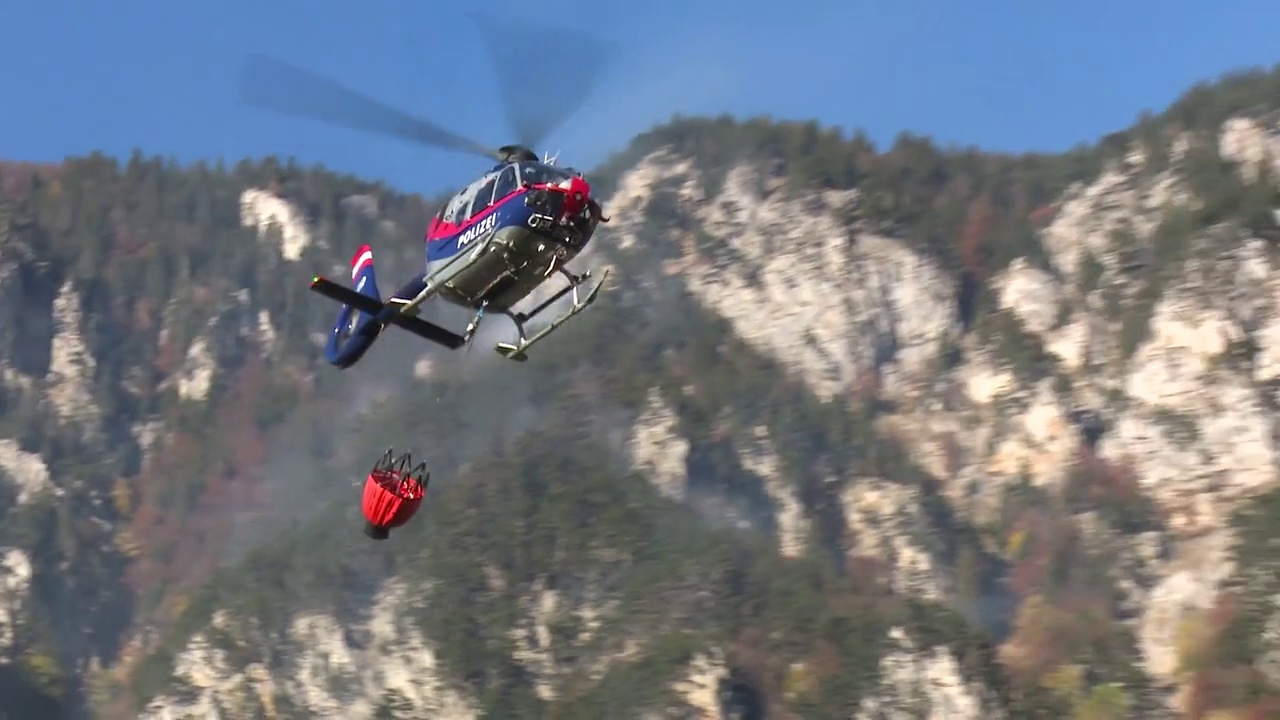heli: (260, 23, 611, 370)
